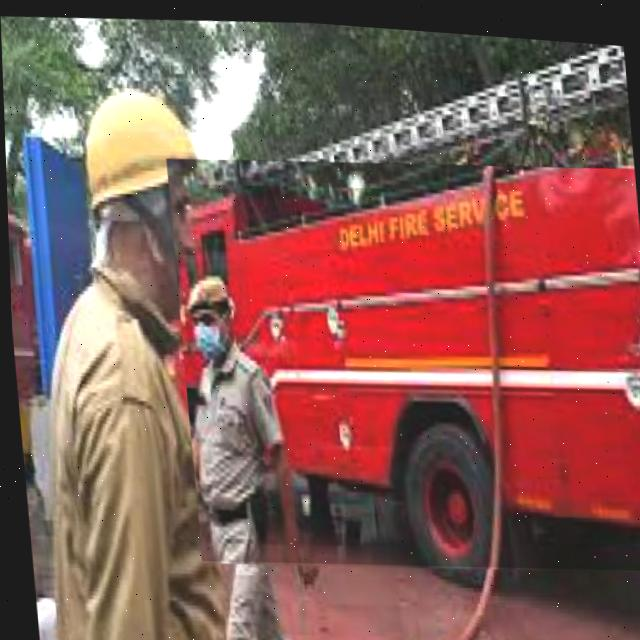Fire Truck: (165, 131, 640, 585)
